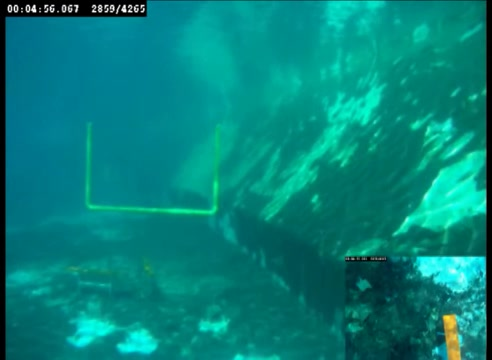channel: (84, 117, 224, 221)
